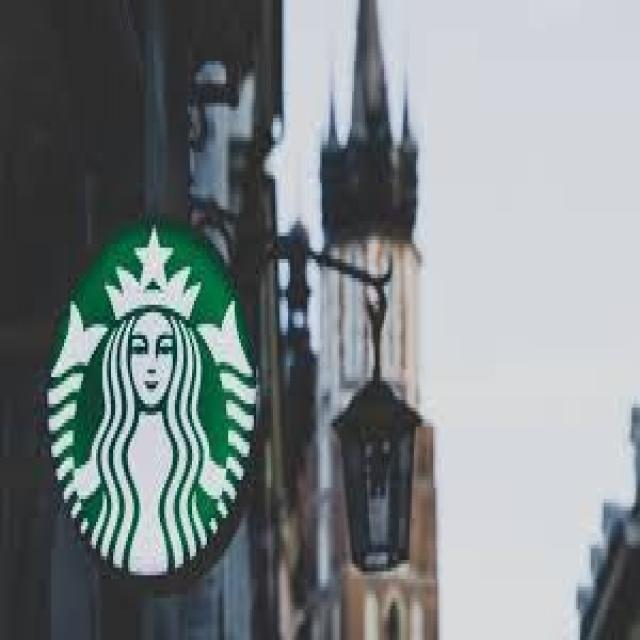starbucks: (47, 215, 263, 592)
